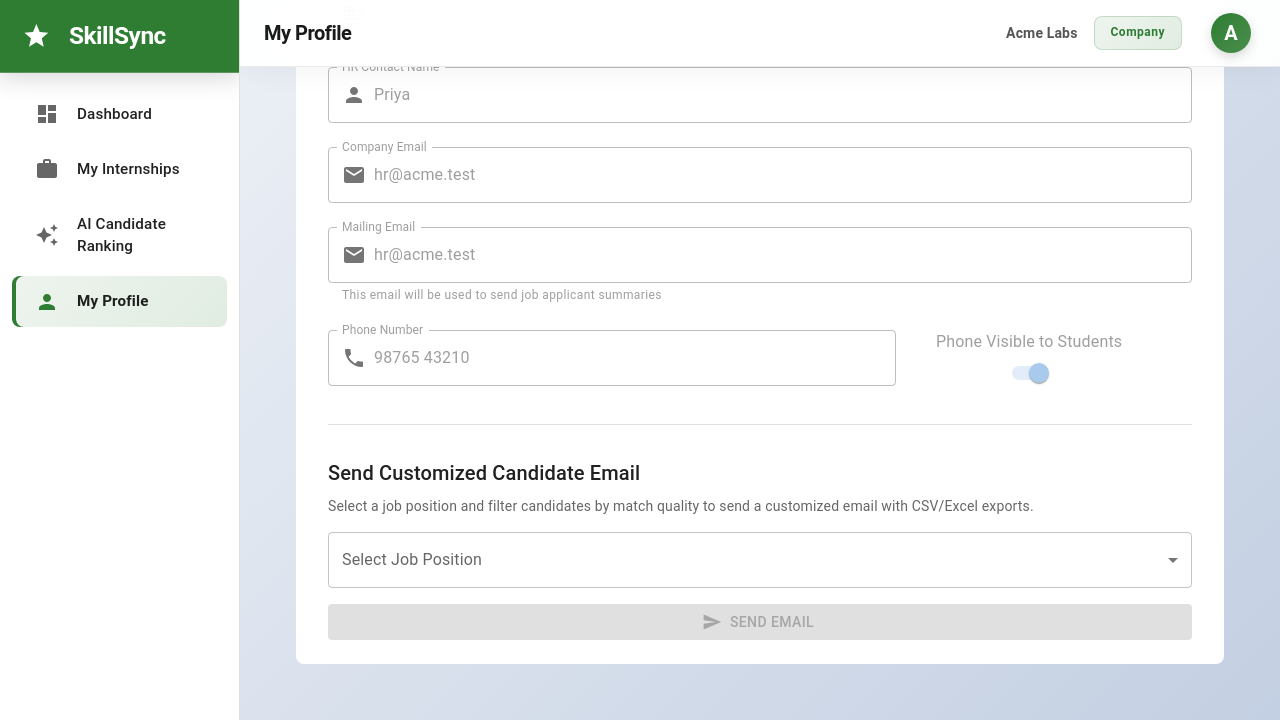
Scenario: the send button stays disabled until a job is chosen
The image size is (1280, 720).
(page scrolled)
Expected: the button "Send Email" is disabled, [328,604,1192,640]
Click the dropdown named "Select Job Position".
click(760, 560)  # box [328,532,1192,588]
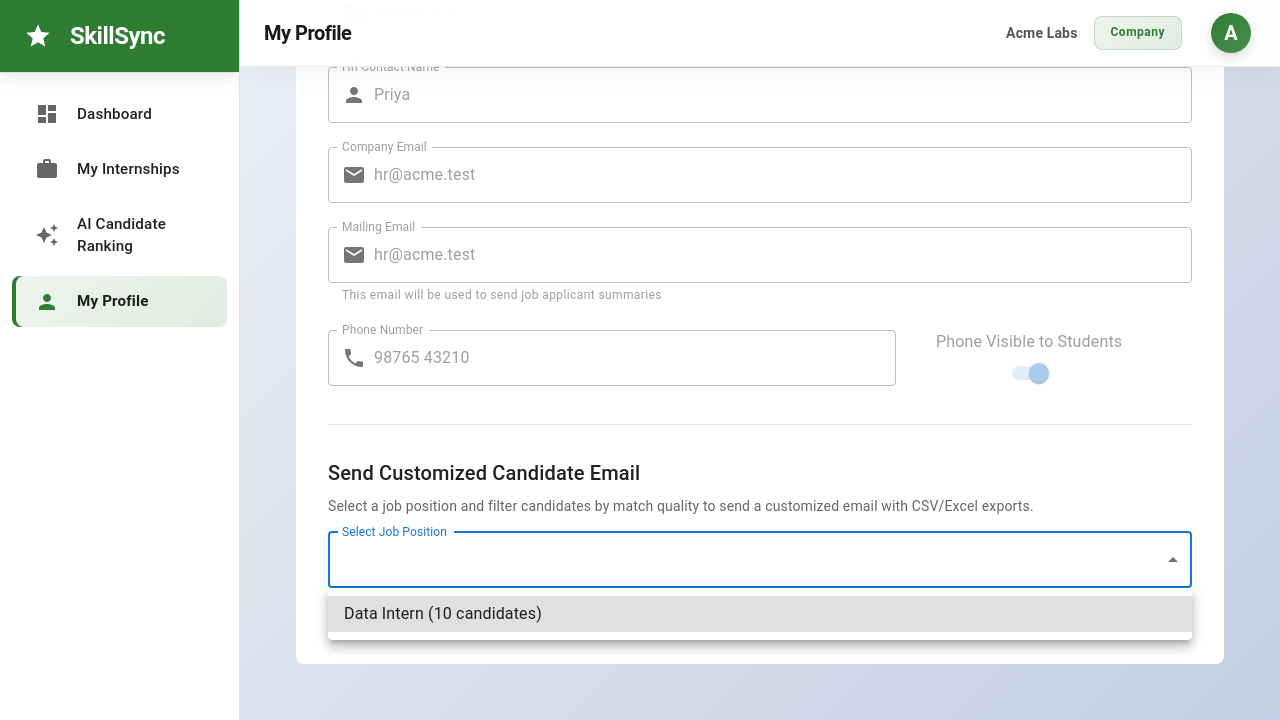
Click the option "Data Intern (10 candidates)".
click(384, 614)  # box [328,596,1192,632]
(page scrolled)
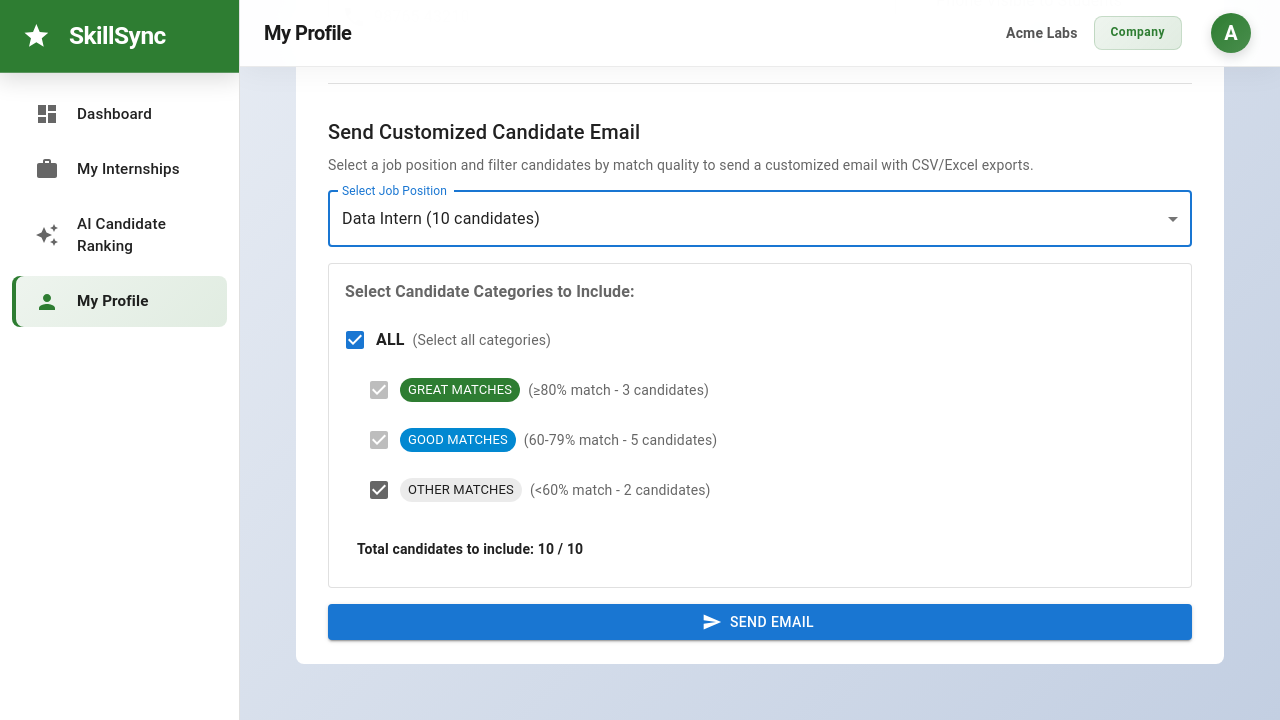
Expected: the button "Send Email" is enabled, [328,604,1192,640]
